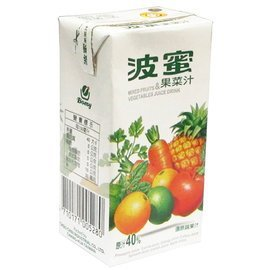vegetables juice: (51, 4, 217, 269)
